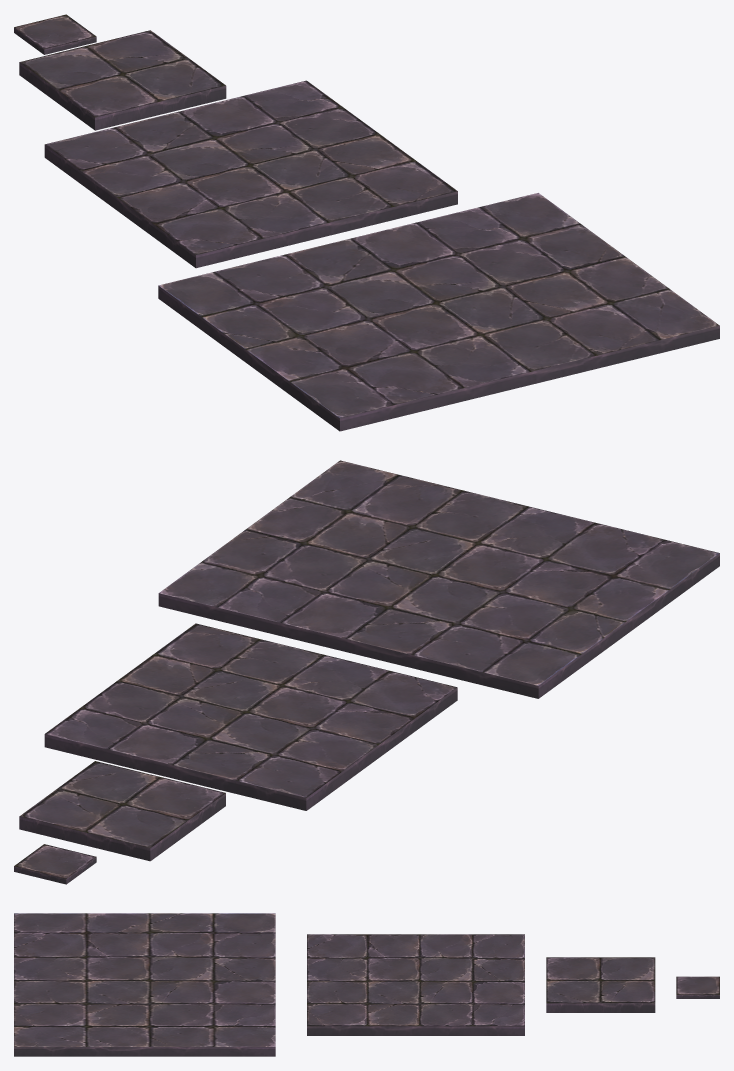
The model's file is floor-tiles.glb.
3 views of the same model, one above another, from view 1: azimuth 30°, elevation 25°; view 2: azimuth 150°, elevation 25°; view 3: azimuth 270°, elevation 25° (orthographic). The views are drawn at different scales.
Parts seen in each view (by area): view 1: Cube.003, Cube.026, Cube.001, Cube.002; view 2: Cube.003, Cube.026, Cube.001, Cube.002; view 3: Cube.003, Cube.026, Cube.001, Cube.002.
Boxes of the visible parts, x1,y1,x2,y2 form: Cube.003: [158, 193, 719, 431]; Cube.026: [44, 80, 457, 268]; Cube.001: [19, 30, 226, 130]; Cube.002: [14, 14, 96, 54]; Cube.003: [158, 460, 719, 698]; Cube.026: [44, 623, 457, 810]; Cube.001: [19, 761, 225, 861]; Cube.002: [14, 844, 96, 884]; Cube.003: [14, 913, 275, 1056]; Cube.026: [307, 934, 524, 1035]; Cube.001: [546, 957, 655, 1012]; Cube.002: [676, 976, 719, 998].
Bounding box in the file's own units: 2.9 × 0.0957 × 6.47.
1 material, 1 textured.
